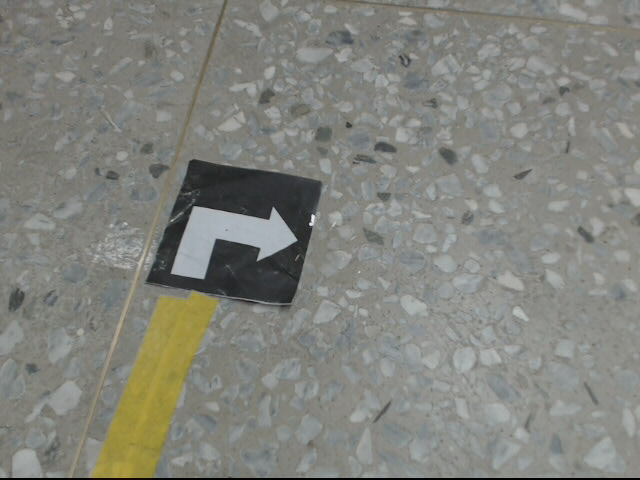right: (144, 157, 323, 308)
